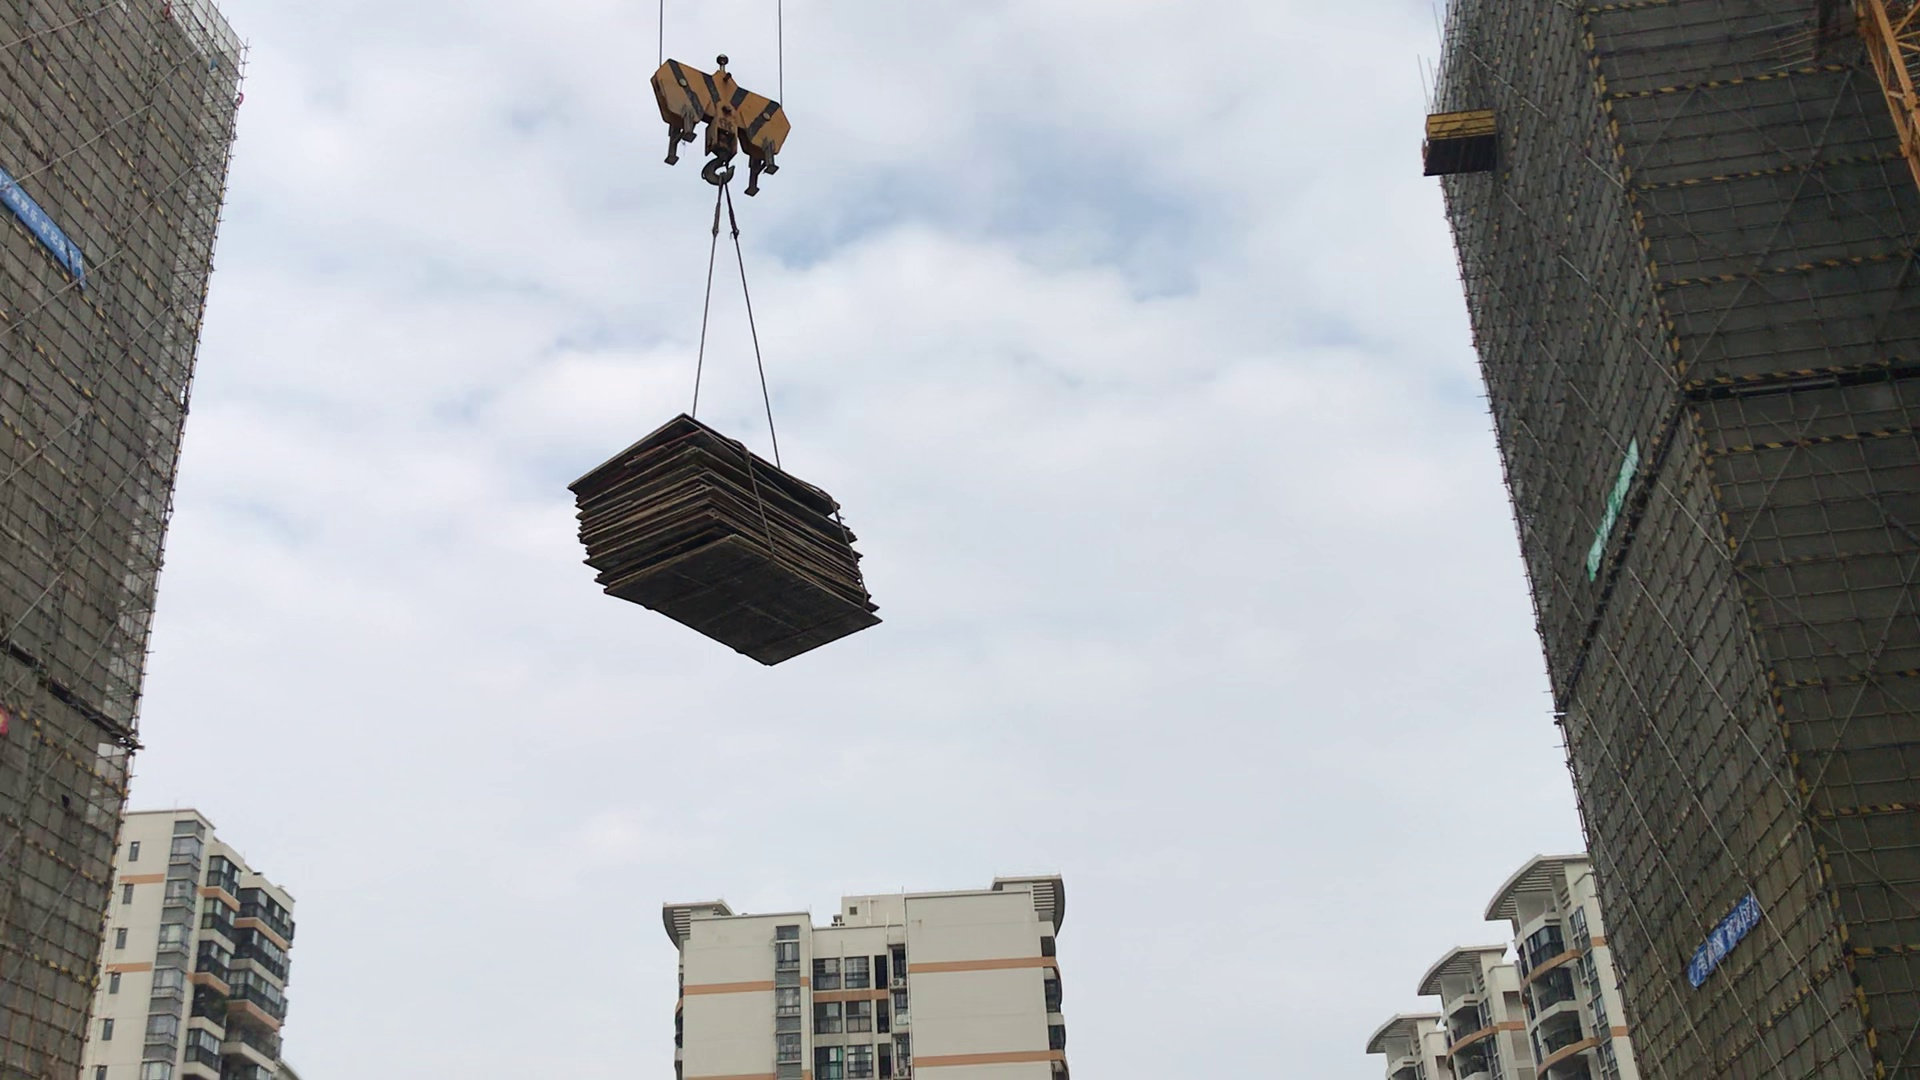board: (559, 425, 931, 707)
hook: (647, 34, 796, 194)
slogan: (1691, 893, 1766, 986), (1589, 438, 1631, 583)
